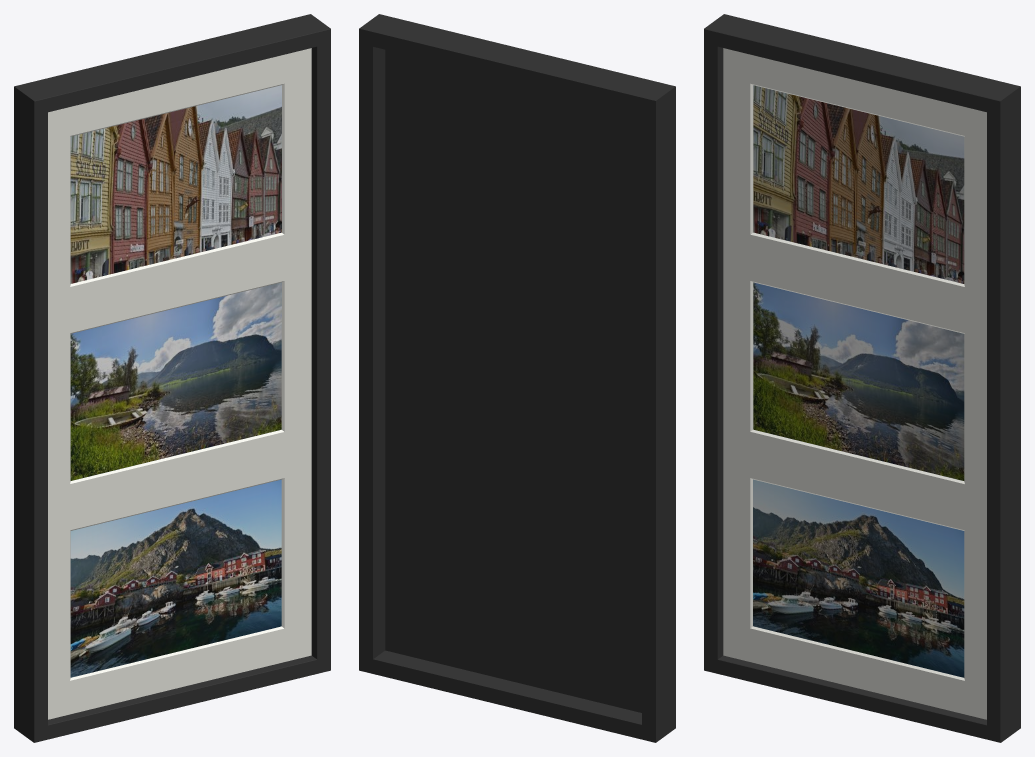
Rendered from frame3HorizontalNorwayPhotos.obj.
The picture shows the model from 3 angles, left to right: view 1: azimuth 30°, elevation 25°; view 2: azimuth 150°, elevation 25°; view 3: azimuth 330°, elevation 25°; orthographic projection.
Parts seen in each view (by area): view 1: Inner_frame_Cube.003, Frame_Cube.001, Photo1_Plane.001, Photo2_Plane, Photo3_Plane.002; view 2: Frame_Cube.001; view 3: Inner_frame_Cube.003, Frame_Cube.001, Photo1_Plane.001, Photo2_Plane, Photo3_Plane.002.
Boxes of the visible parts, left/top/right/bottom form: Inner_frame_Cube.003: left=48, top=48, right=311, bottom=719; Frame_Cube.001: left=14, top=14, right=330, bottom=742; Photo1_Plane.001: left=70, top=85, right=281, bottom=283; Photo2_Plane: left=70, top=282, right=281, bottom=480; Photo3_Plane.002: left=70, top=479, right=281, bottom=677; Frame_Cube.001: left=359, top=14, right=675, bottom=742; Inner_frame_Cube.003: left=723, top=48, right=986, bottom=719; Frame_Cube.001: left=704, top=14, right=1020, bottom=742; Photo1_Plane.001: left=753, top=85, right=964, bottom=283; Photo2_Plane: left=753, top=282, right=964, bottom=480; Photo3_Plane.002: left=753, top=479, right=964, bottom=677.
Size of the model in its own units: 25.4 by 52.5 by 3.
Materials: 5 (3 with a texture image).
